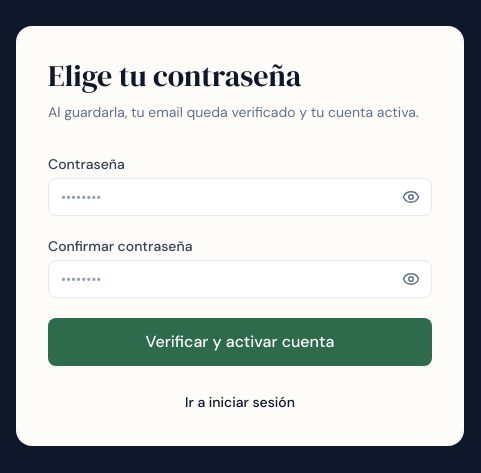
Test: VerifyEmailPage › no envía nada si las contraseñas no coinciden
In the password field labelled "Contraseña": [240, 197] box x1=48 y1=178 x2=432 y2=216, type "Password123!"
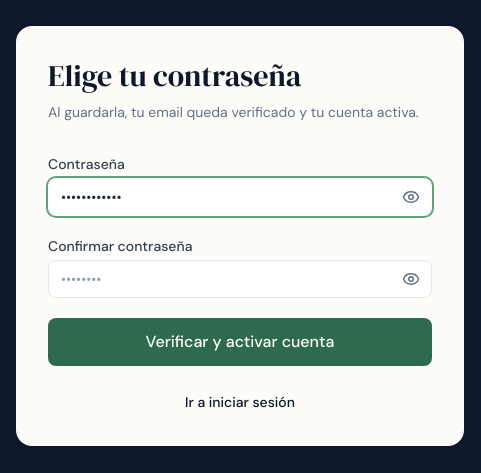
In the password field labelled "Confirmar contraseña": [240, 279] box x1=48 y1=260 x2=432 y2=298, type "Distinta123!"
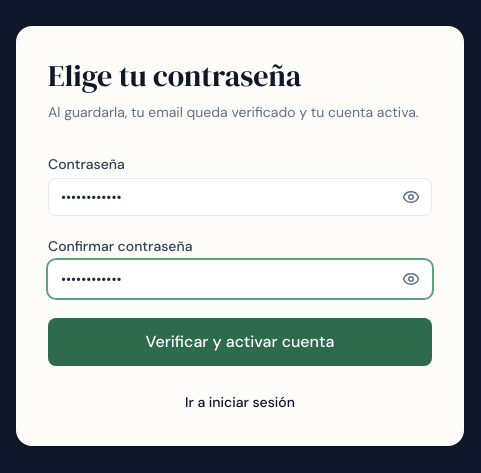
Click the button "Verificar y activar cuenta": [240, 342] box x1=48 y1=318 x2=432 y2=366
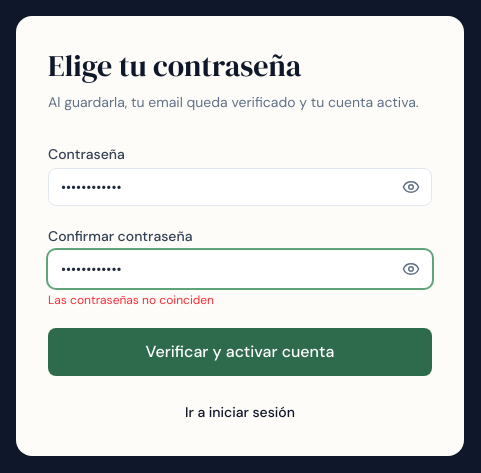
Expected: the text "Las contraseñas no coinciden" is shown, x1=48 y1=292 x2=214 y2=308
